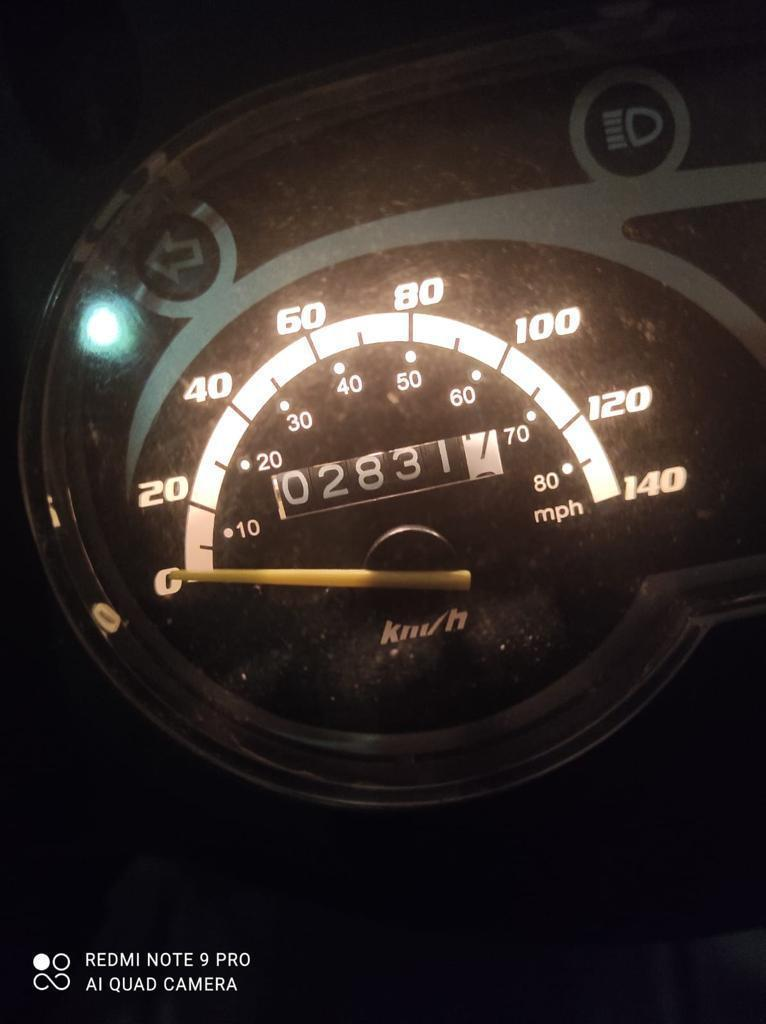0: (279, 468, 311, 506), (268, 449, 283, 468)
1: (434, 437, 454, 476)
2: (316, 461, 350, 501), (263, 452, 270, 471)
3: (391, 446, 422, 482)
7: (463, 428, 490, 460)
8: (353, 454, 385, 491)
odometer: (263, 425, 506, 525)
